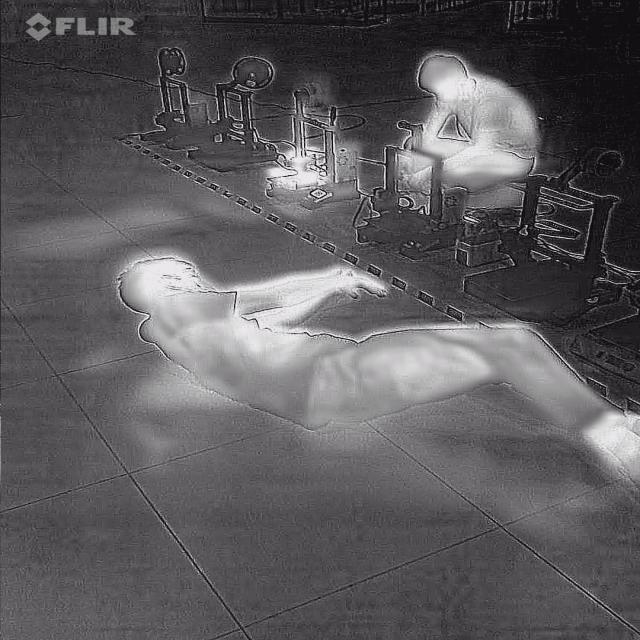Victim: (98, 248, 638, 492), (396, 40, 556, 207)
